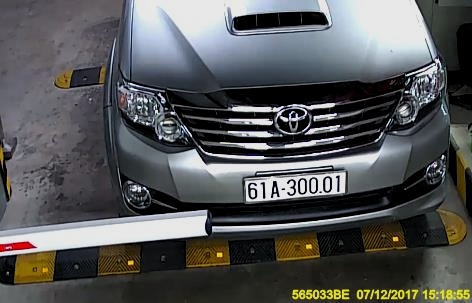plate: (245, 169, 350, 206)
